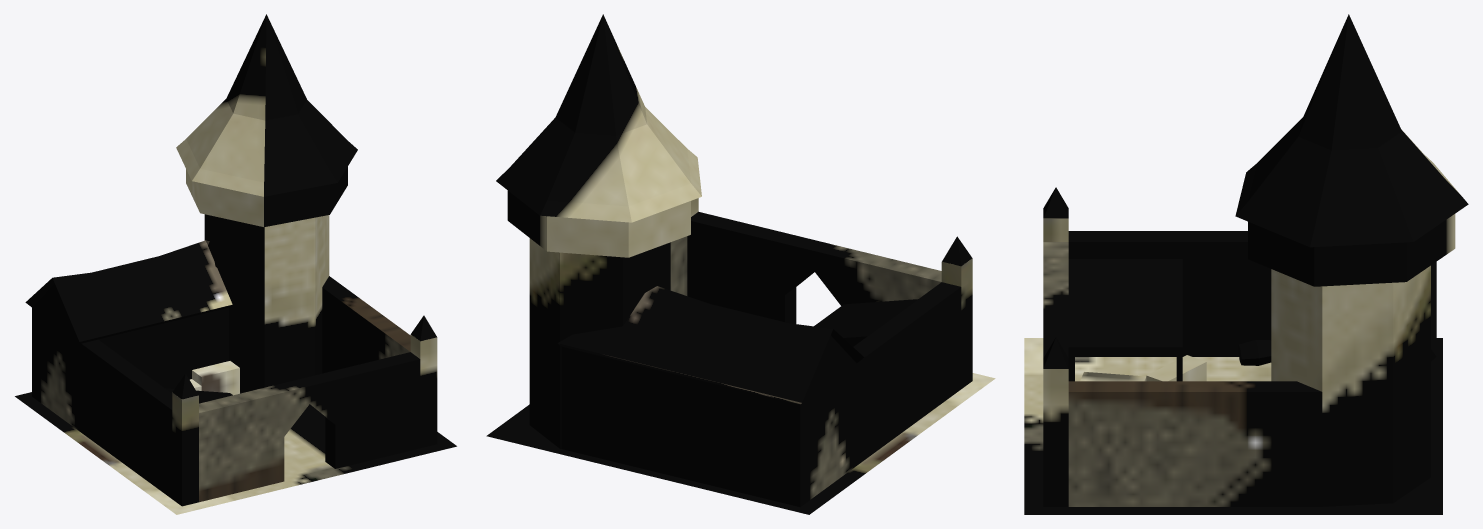
File: caserne_age1.obj
3 renders of one model, left to right at view 1: azimuth 30°, elevation 25°; view 2: azimuth 150°, elevation 25°; view 3: azimuth 270°, elevation 25°, orthographic. The views are drawn at different scales.
Visible parts, largest first — view 1: Cube.008_Cube.010; view 2: Cube.008_Cube.010; view 3: Cube.008_Cube.010.
Boxes of the visible parts, <box> form: Cube.008_Cube.010: <box>15,14,456,514</box>; Cube.008_Cube.010: <box>486,14,995,514</box>; Cube.008_Cube.010: <box>1024,14,1468,514</box>.
Size of the model in its own units: 6.87 by 8 by 7.01.
